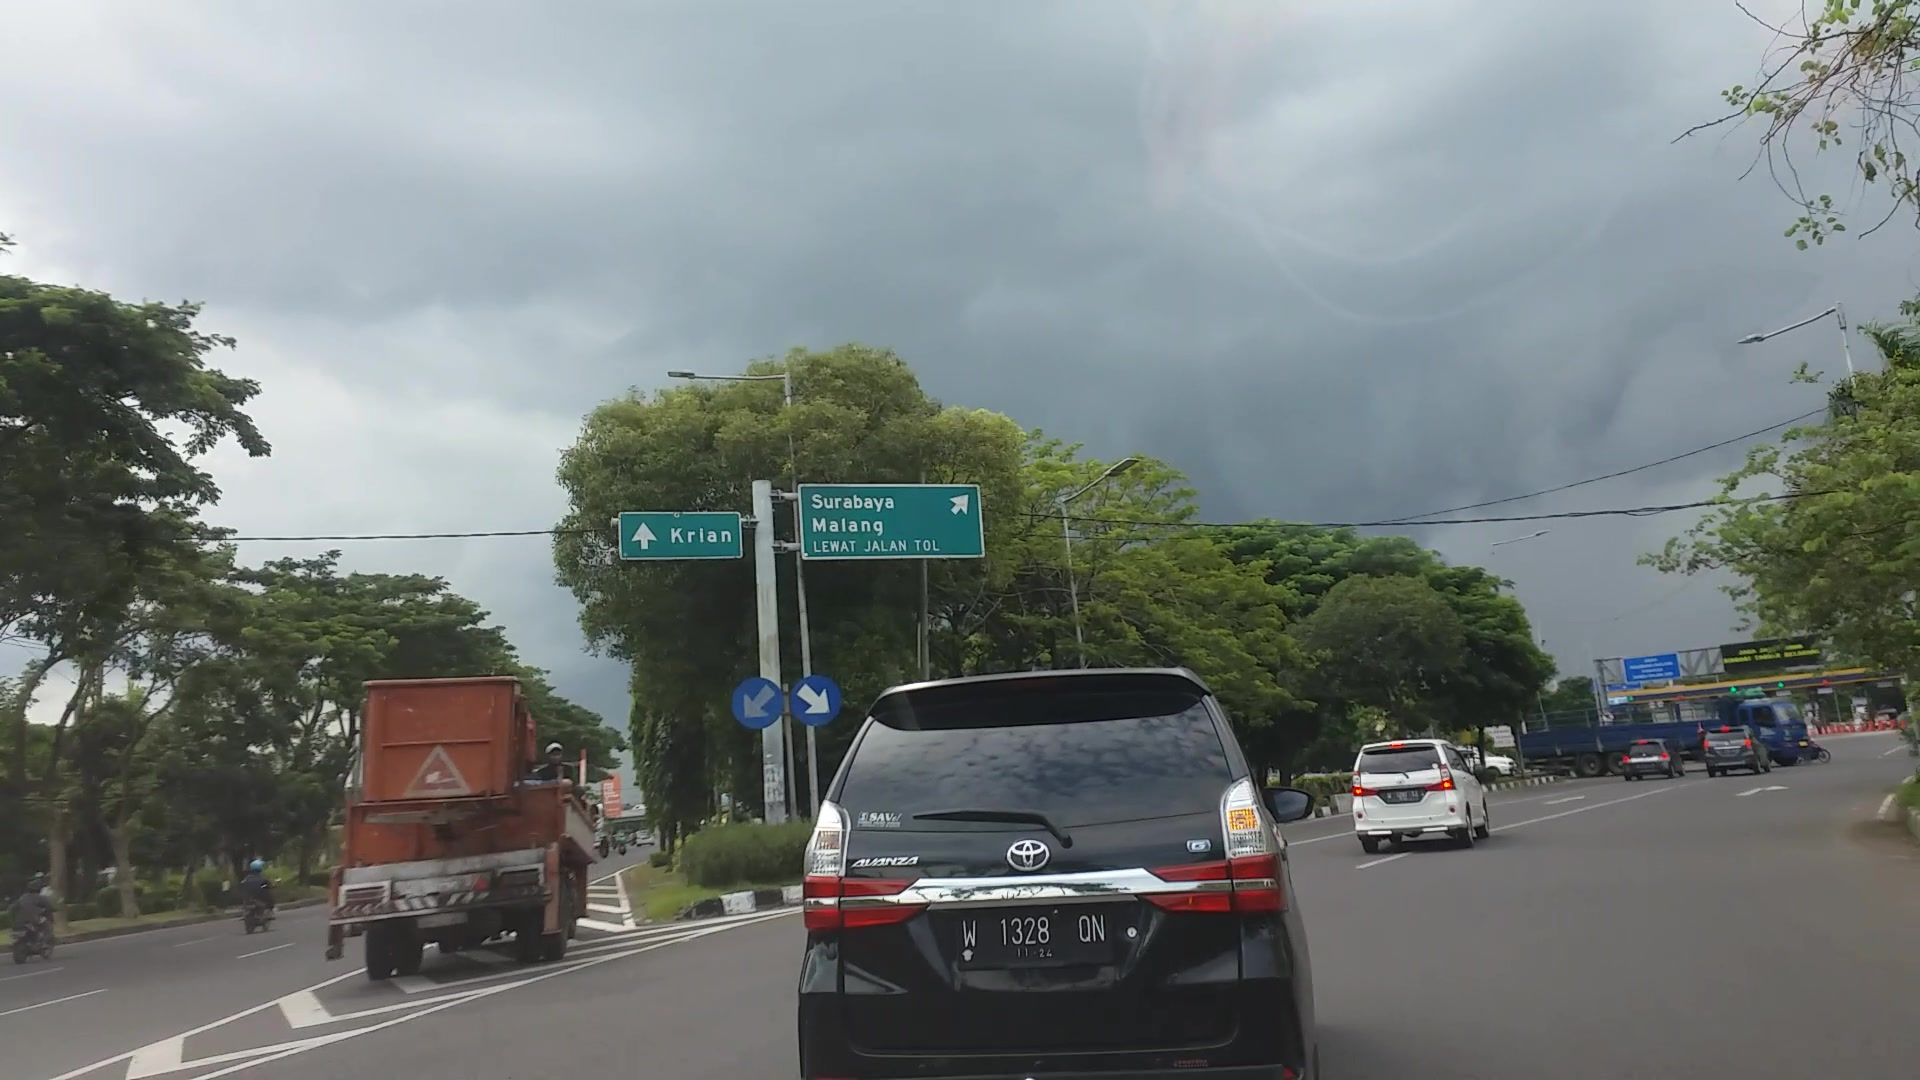plate_positive: (957, 909, 1112, 968)
